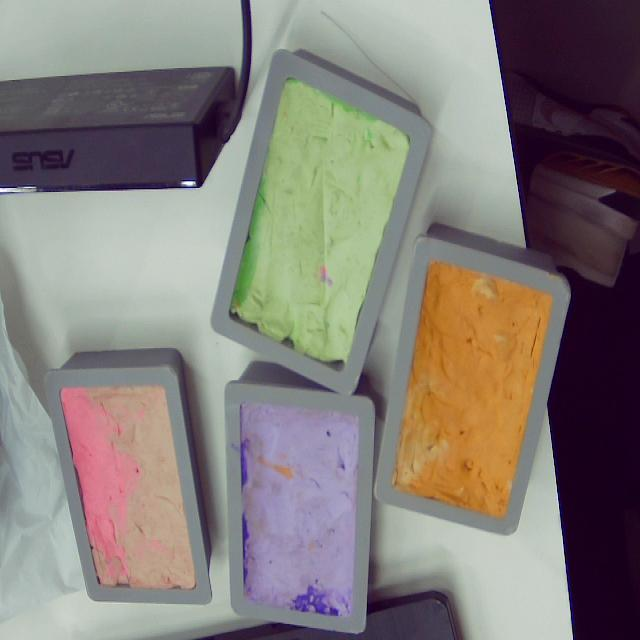block: (210, 48, 432, 399), (371, 226, 571, 542), (42, 348, 216, 610), (222, 376, 376, 636)
